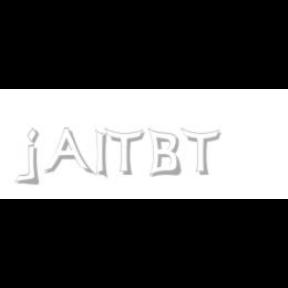A: (44, 128, 92, 176)
B: (147, 128, 181, 178)
I: (96, 128, 108, 180)
T: (104, 128, 144, 176), (180, 128, 220, 176)
j: (24, 128, 54, 186)
